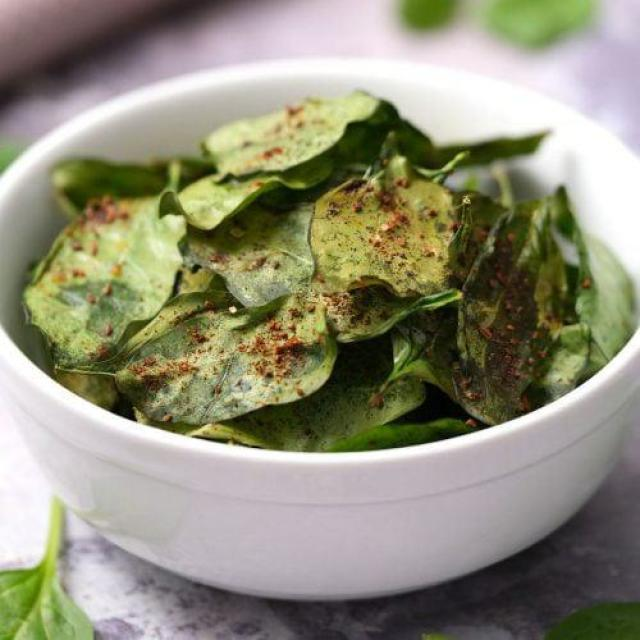Spinach: (10, 79, 637, 440)
